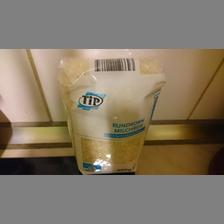Reis: (58, 54, 166, 174)
